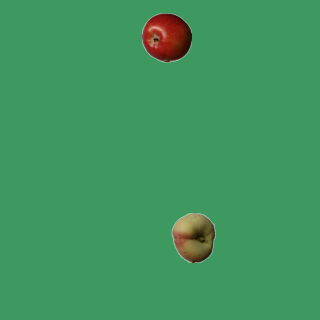Apple Braeburn: (141, 12, 191, 62)
Peach Flat: (168, 212, 218, 262)
